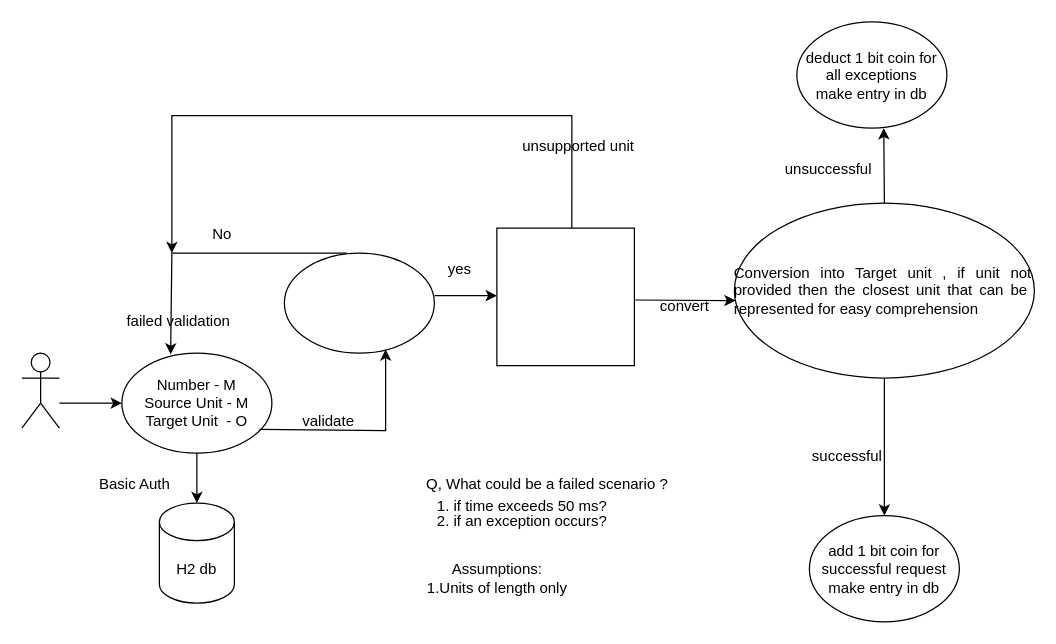
The diagram is 1056 pixels wide and 644 high, and some of its shapes have lost their labels. The centre of each missing label's shape, as x and y in pixels:
"Actor" belongs at (x=40, y=390).
"Determine the unit which has been provided. length time Volume mass" belongs at (x=565, y=296).
"Validate the requests param" belongs at (x=358, y=302).
